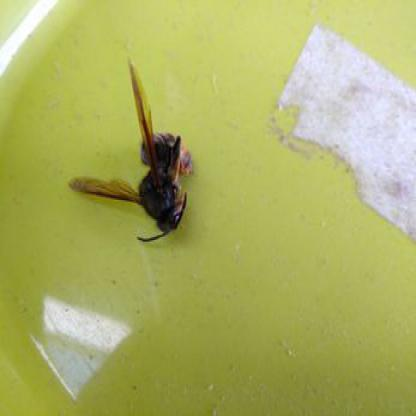Asian Hornet: (70, 56, 203, 246)
